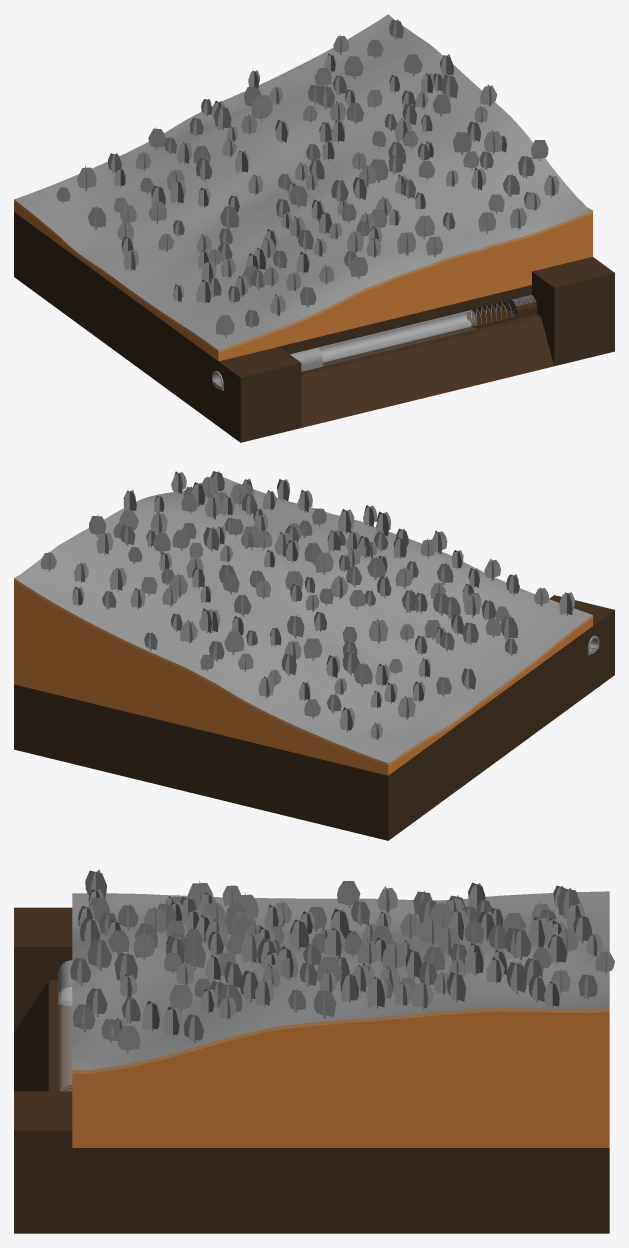
Rendered from Tunnel_Inside.FBX.
3 renders of one model, top to bottom at view 1: azimuth 30°, elevation 25°; view 2: azimuth 150°, elevation 25°; view 3: azimuth 270°, elevation 25°, orthographic. The views are drawn at different scales.
Visible parts, largest first — view 1: Tunnel_Inside; view 2: Tunnel_Inside; view 3: Tunnel_Inside.
Part boxes in pixels (box(x1,y1,x2,y2)): Tunnel_Inside: box(14, 14, 614, 442); Tunnel_Inside: box(14, 471, 614, 840); Tunnel_Inside: box(14, 869, 614, 1233).
Bounding box in the file's own units: 294 × 138 × 310.
